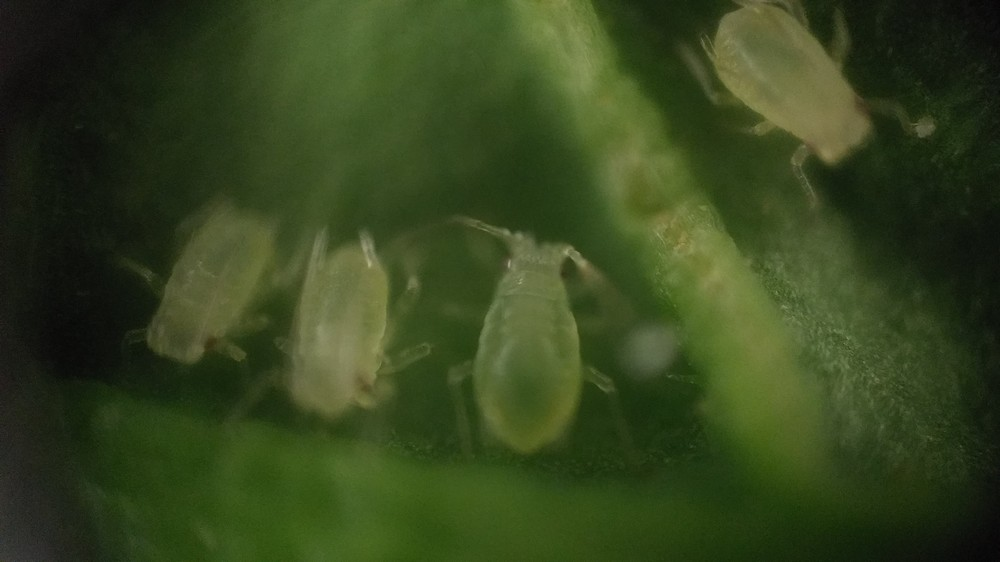Pulgon: (434, 209, 672, 490), (667, 4, 941, 205), (263, 201, 450, 445), (111, 178, 294, 399)
